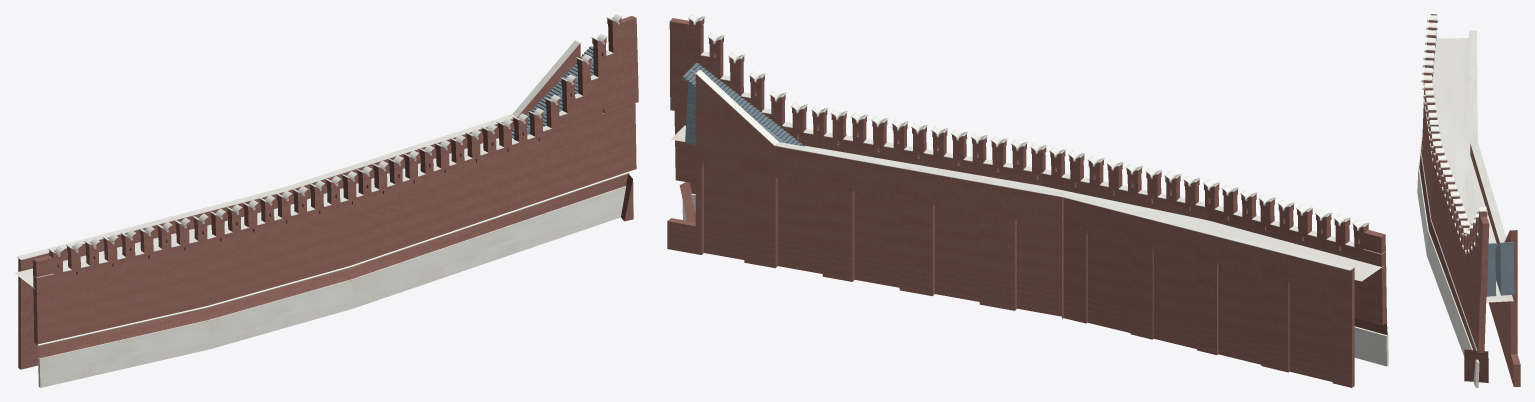
File: 01080_Kremlyovskaya_stena_18.FBX
3 renders of one model, left to right at view 1: azimuth 30°, elevation 25°; view 2: azimuth 150°, elevation 25°; view 3: azimuth 270°, elevation 25°, orthographic. The views are drawn at different scales.
Parts seen in each view (by area): view 1: Group_003, Group_081, Group_001, Group_002, Group_009, Group_075, Group_008, Group_079, Group_078, Group_080, Group_007, Group_084 (+4 smaller); view 2: Group_007, Group_008, Group_264, Group_004, Group_005, Group_003, Group_001, Group_075, Group_080, Group_006, Group_002, Group_079 (+5 smaller); view 3: Group_080, Group_003, Group_081, Group_075, Group_264, Group_079, Group_268, Group_078, Group_009, Group_002, Group_227, Group_006 (+5 smaller).
Part boxes in pixels (left/top/right/bottom): Group_003: left=349, top=103, right=636, bottom=265; Group_081: left=38, top=186, right=633, bottom=387; Group_001: left=33, top=240, right=206, bottom=344; Group_002: left=205, top=200, right=349, bottom=305; Group_009: left=37, top=174, right=627, bottom=358; Group_075: left=543, top=16, right=638, bottom=133; Group_008: left=18, top=192, right=283, bottom=343; Group_079: left=17, top=187, right=285, bottom=260; Group_078: left=283, top=114, right=516, bottom=190; Group_080: left=14, top=138, right=514, bottom=288; Group_007: left=288, top=119, right=513, bottom=204; Group_084: left=350, top=171, right=629, bottom=267; Group_007: left=774, top=146, right=1063, bottom=290; Group_008: left=1063, top=198, right=1354, bottom=359; Group_264: left=695, top=74, right=774, bottom=240; Group_004: left=1063, top=290, right=1354, bottom=387; Group_005: left=774, top=238, right=1063, bottom=318; Group_003: left=674, top=111, right=1041, bottom=185; Group_001: left=1207, top=208, right=1386, bottom=325; Group_075: left=669, top=18, right=792, bottom=130; Group_080: left=671, top=125, right=1383, bottom=281; Group_006: left=667, top=218, right=774, bottom=267; Group_002: left=1041, top=173, right=1207, bottom=220; Group_079: left=1062, top=193, right=1354, bottom=270; Group_080: left=1432, top=38, right=1513, bottom=302; Group_003: left=1431, top=163, right=1486, bottom=352; Group_081: left=1417, top=124, right=1479, bottom=387; Group_075: left=1465, top=215, right=1489, bottom=297; Group_264: left=1502, top=230, right=1517, bottom=354; Group_079: left=1469, top=30, right=1477, bottom=141; Group_268: left=1495, top=244, right=1514, bottom=295; Group_078: left=1470, top=141, right=1506, bottom=242; Group_009: left=1419, top=137, right=1476, bottom=360; Group_002: left=1422, top=102, right=1433, bottom=217; Group_227: left=1464, top=349, right=1488, bottom=382; Group_006: left=1502, top=326, right=1520, bottom=386.
Bounding box in the file's own units: 69.21 × 20.99 × 11.18.
9 materials, 9 textured.
